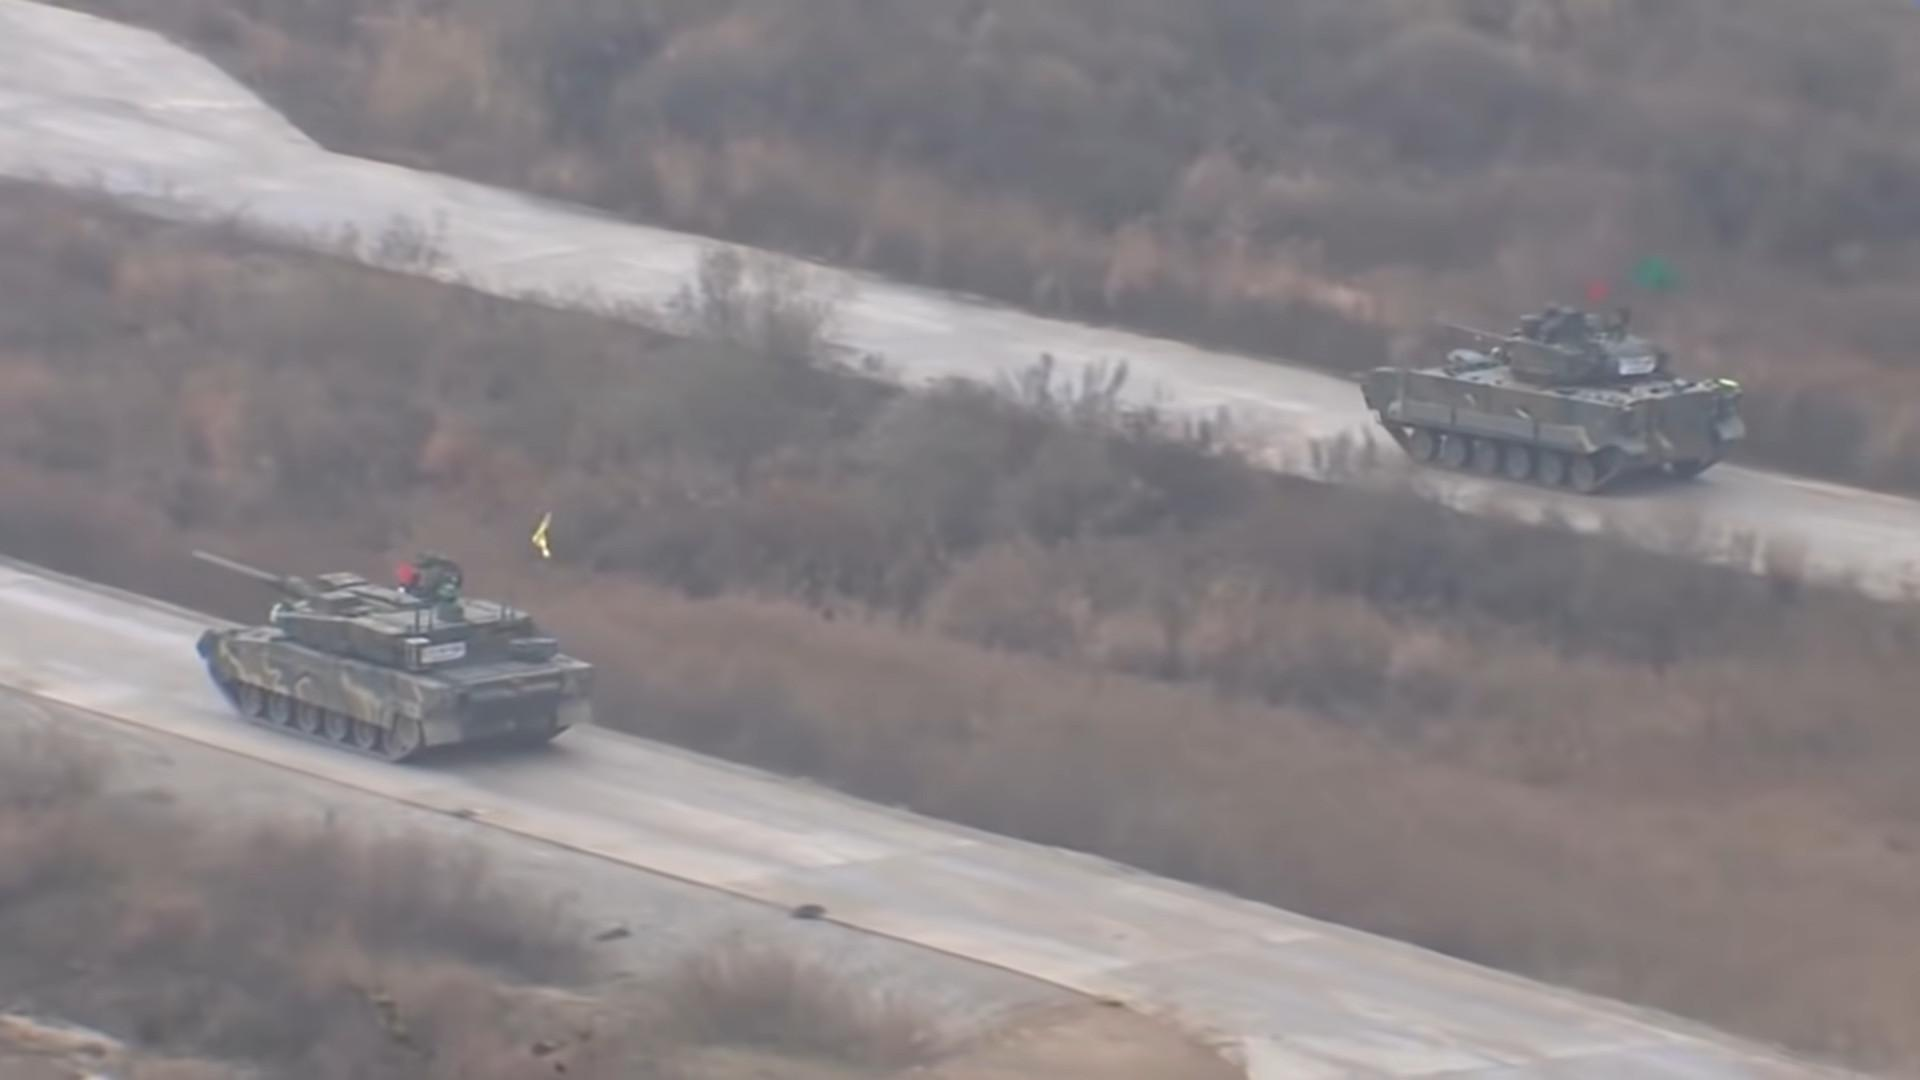tank: (191, 550, 593, 765), (1364, 302, 1746, 495)
